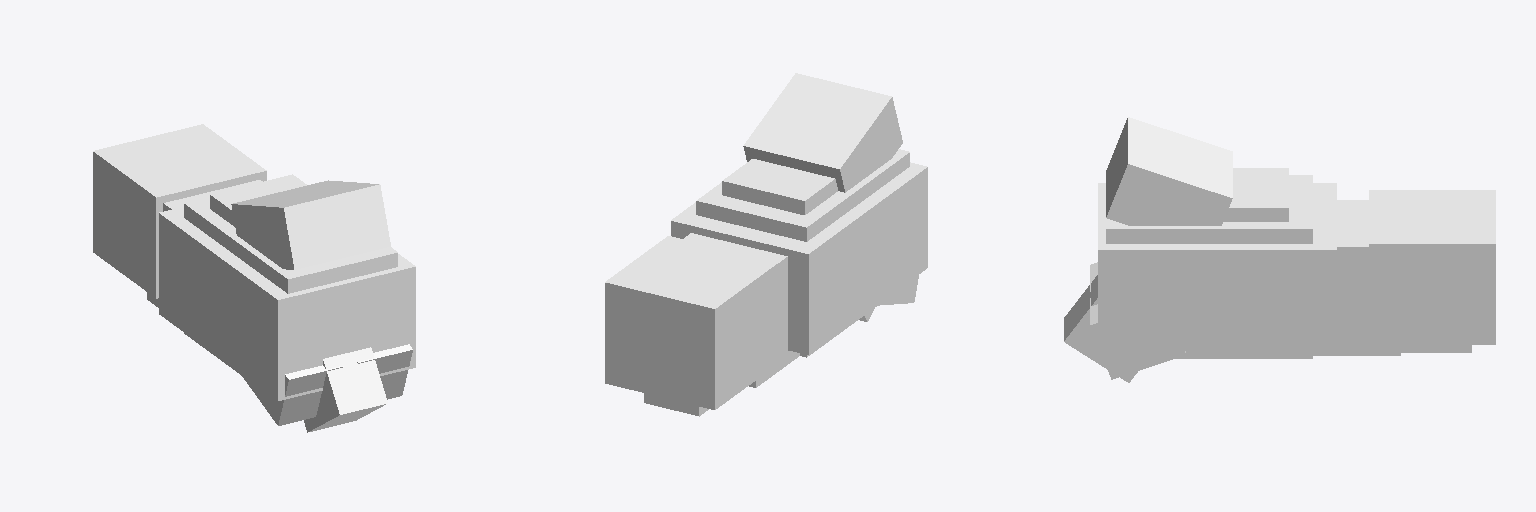
The model's file is lion_body.obj.
3 renders of one model, left to right at view 1: azimuth 30°, elevation 25°; view 2: azimuth 150°, elevation 25°; view 3: azimuth 270°, elevation 25°, orthographic.
Parts seen in each view (by area): view 1: Element #34, Element #33, Element #26, Element #6, Element #31, Element #25, Element #2, Element #3, Element #10; view 2: Element #33, Element #34, Element #26, Element #6, Element #2, Element #10, Element #1, Element #25; view 3: Element #34, Element #33, Element #26, Element #6, Element #10, Element #2, Element #31, Element #3, Element #1.
Part boxes in pixels (bbox=[...]): Element #34: bbox=[159, 207, 415, 400]; Element #33: bbox=[93, 124, 266, 298]; Element #26: bbox=[231, 180, 390, 269]; Element #6: bbox=[184, 197, 397, 375]; Element #31: bbox=[304, 347, 387, 432]; Element #25: bbox=[242, 365, 343, 425]; Element #2: bbox=[210, 174, 306, 226]; Element #3: bbox=[357, 344, 412, 399]; Element #10: bbox=[147, 180, 262, 307]; Element #33: bbox=[605, 236, 778, 409]; Element #34: bbox=[671, 162, 927, 354]; Element #26: bbox=[743, 73, 902, 192]; Element #6: bbox=[696, 149, 909, 357]; Element #2: bbox=[722, 159, 837, 214]; Element #10: bbox=[684, 233, 799, 387]; Element #1: bbox=[644, 393, 708, 416]; Element #25: bbox=[877, 275, 918, 305]; Element #34: bbox=[1098, 183, 1336, 350]; Element #33: bbox=[1369, 190, 1495, 344]; Element #26: bbox=[1106, 117, 1232, 225]; Element #6: bbox=[1106, 175, 1312, 358]; Element #10: bbox=[1313, 200, 1400, 355]; Element #2: bbox=[1224, 168, 1288, 221]; Element #31: bbox=[1064, 275, 1137, 382]; Element #3: bbox=[1090, 298, 1185, 379]; Element #1: bbox=[1401, 345, 1471, 352].
Bounding box in the file's own units: 10 × 16.01 × 27.12.